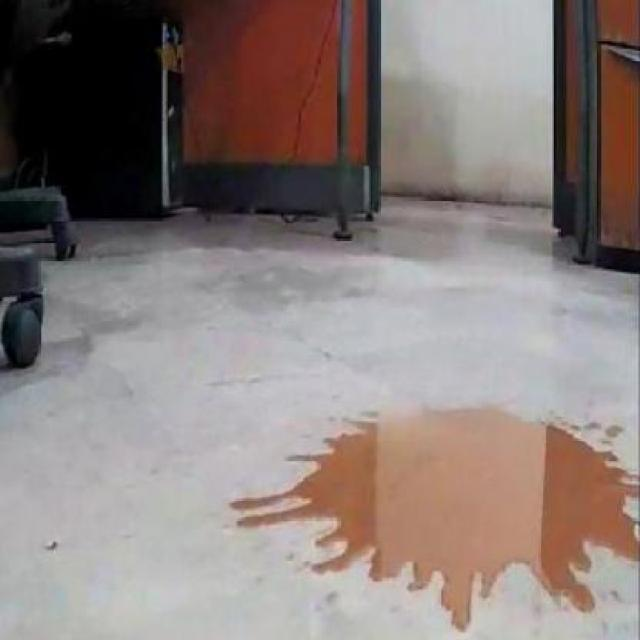spillage: (230, 409, 638, 634)
